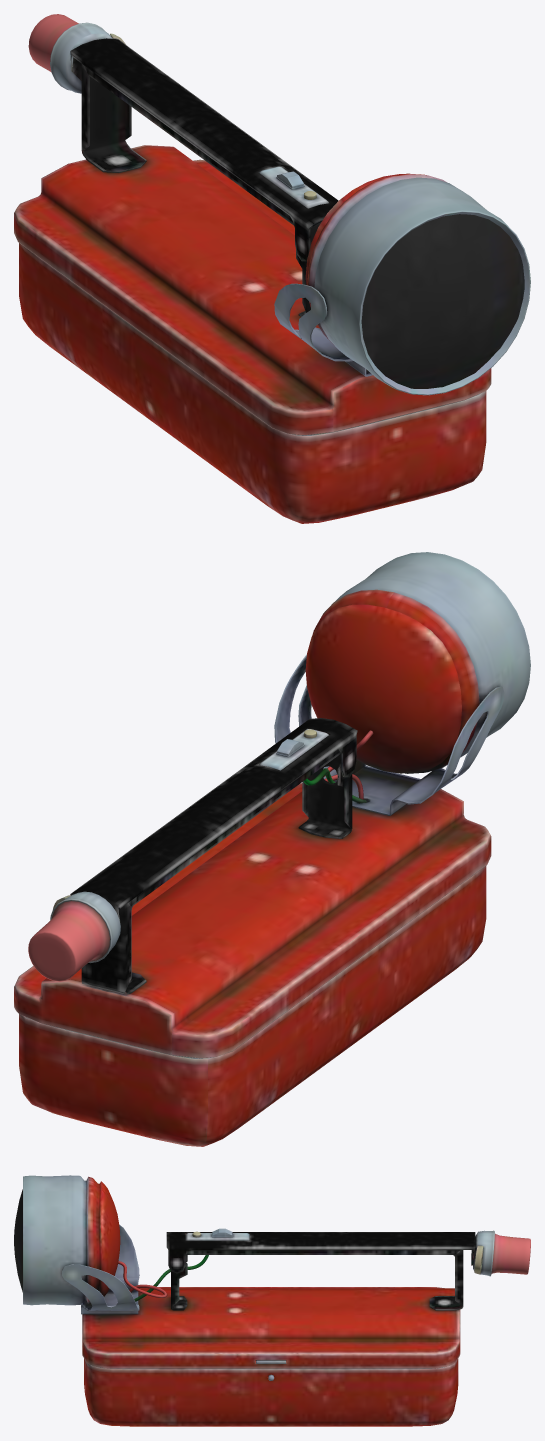
The model's file is vintage_flashlight.gltf.
3 views of the same model, one above another, from view 1: azimuth 30°, elevation 25°; view 2: azimuth 150°, elevation 25°; view 3: azimuth 270°, elevation 25° (orthographic). The views are drawn at different scales.
Parts seen in each view (by area): view 1: vintage_flashlight; view 2: vintage_flashlight; view 3: vintage_flashlight.
Part boxes in pixels (x1,y1,x2,y2): vintage_flashlight: (14, 14, 530, 523); vintage_flashlight: (14, 552, 530, 1146); vintage_flashlight: (14, 1175, 530, 1426).
Bounding box in the file's own units: 0.0959 × 0.1443 × 0.3055.
